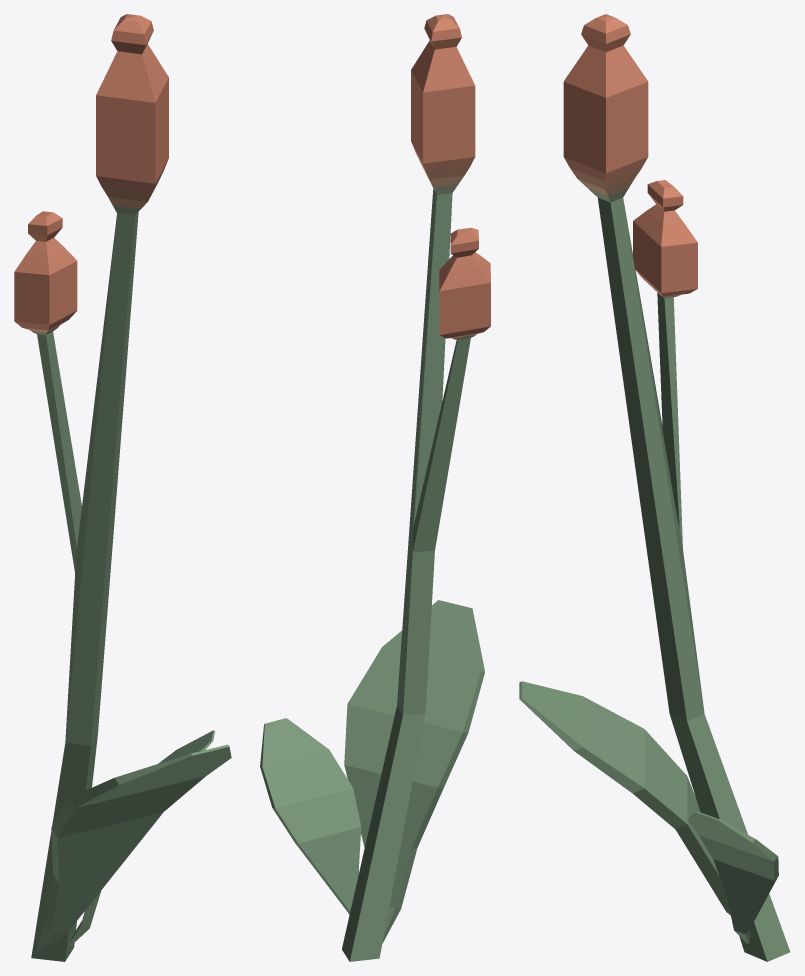
The model's file is plante_1_etape_3_v1.fbx.
3 views of the same model, side by side, from view 1: azimuth 30°, elevation 25°; view 2: azimuth 150°, elevation 25°; view 3: azimuth 270°, elevation 25° (orthographic). The views are drawn at different scales.
Parts seen in each view (by area): view 1: stage_3_v1; view 2: stage_3_v1; view 3: stage_3_v1.
Part boxes in pixels (left/top/right/bottom): stage_3_v1: left=14, top=14, right=231, bottom=961; stage_3_v1: left=260, top=14, right=490, bottom=961; stage_3_v1: left=519, top=14, right=790, bottom=961.
Bounding box in the file's own units: 0.927 × 3.87 × 1.02.
